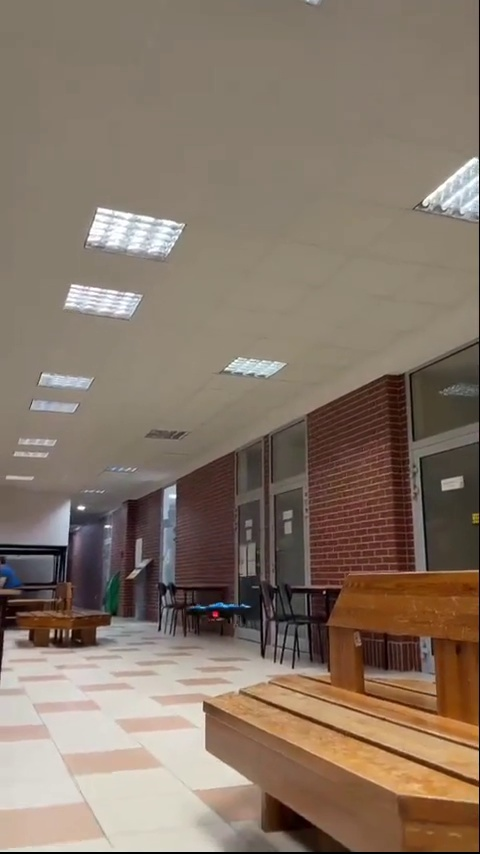drone: (180, 598, 255, 629)
